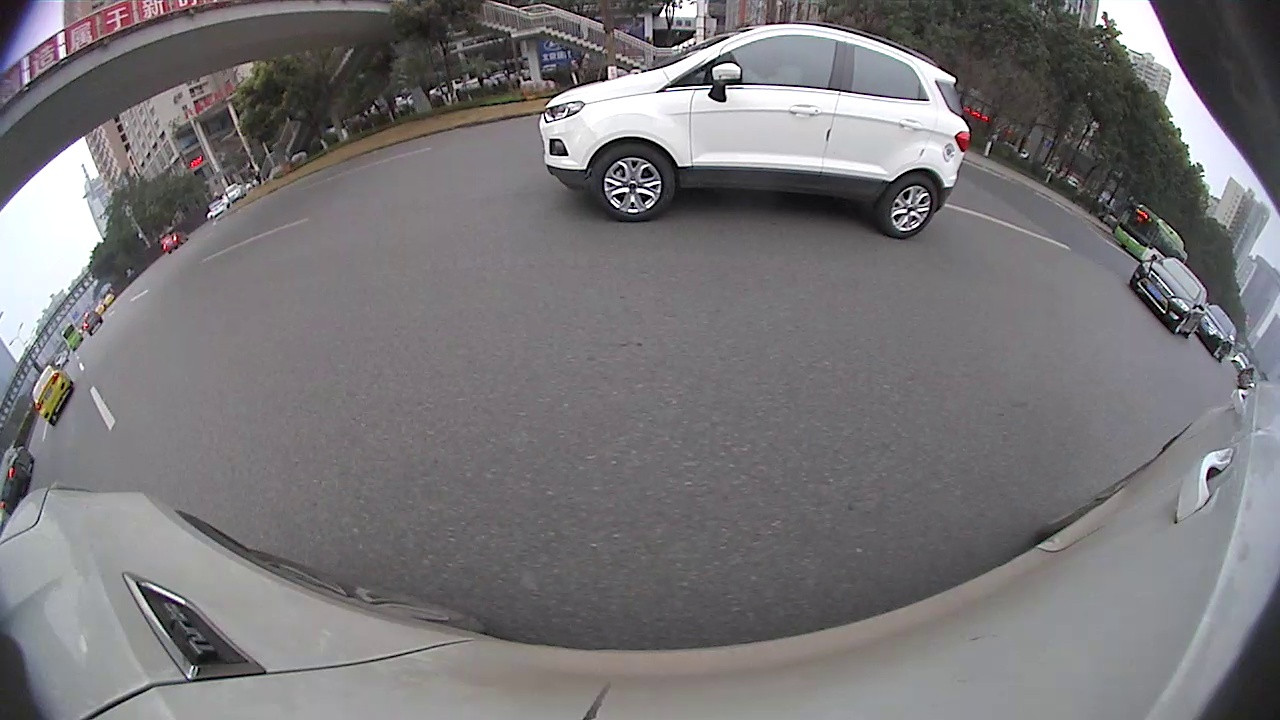bus: (1114, 200, 1191, 270)
car: (539, 21, 972, 240), (1128, 256, 1208, 339), (30, 365, 76, 428), (1196, 305, 1239, 361), (2, 448, 36, 515)
front: (589, 147, 672, 221)
rear: (880, 178, 939, 240)
